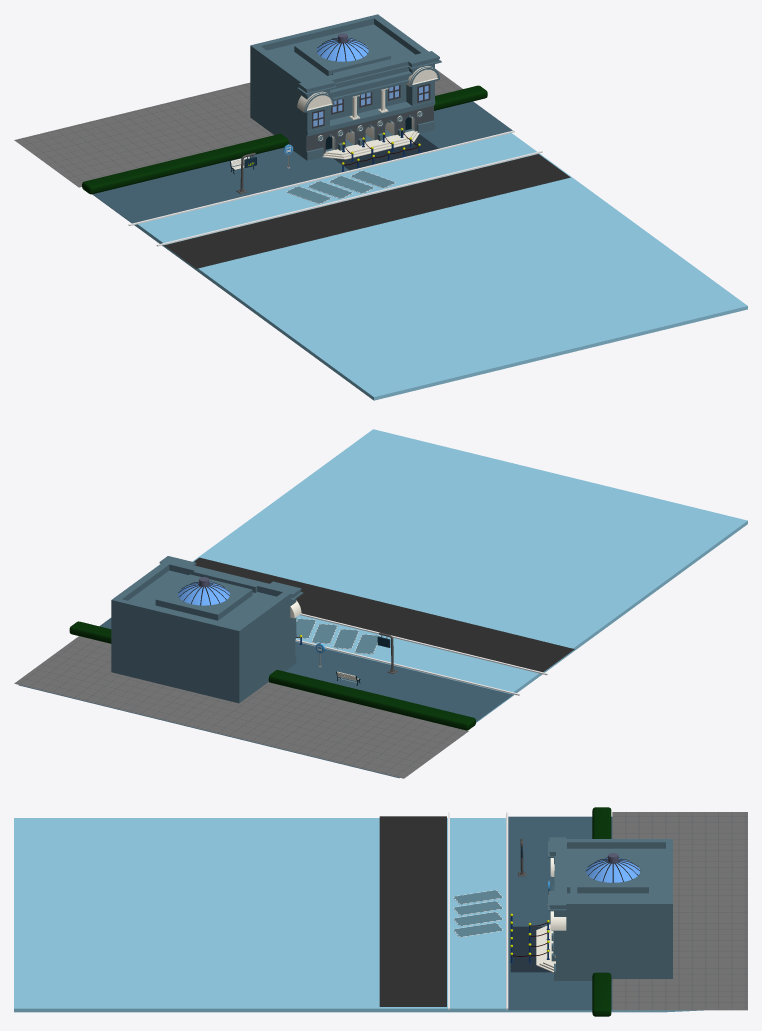
File: mergejam_04_library.fbx
The picture shows the model from 3 angles, top to bottom: view 1: azimuth 30°, elevation 25°; view 2: azimuth 150°, elevation 25°; view 3: azimuth 270°, elevation 25°; orthographic projection. The views are drawn at different scales.
Visible parts, largest first — view 1: main_base003, Amiga_Days_Museum_obj, Plane004, road003, base_midblue, Box009, curb003, house_floor_004, Box014; view 2: main_base003, Plane004, Amiga_Days_Museum_obj, road003, base_midblue, Box009, curb003, Box014; view 3: main_base003, Plane004, Amiga_Days_Museum_obj, road003, base_midblue, house_floor_004, curb003, Box014, Box009, red_railings003, vehicle_stand012, vehicle_stand011 (+2 smaller).
Part boxes in pixels (bbox=[...]): main_base003: bbox=[92, 133, 747, 400]; Amiga_Days_Museum_obj: bbox=[250, 14, 441, 160]; Plane004: bbox=[14, 69, 462, 187]; road003: bbox=[164, 154, 570, 268]; base_midblue: bbox=[93, 101, 512, 223]; Box009: bbox=[82, 133, 288, 194]; curb003: bbox=[128, 130, 542, 246]; house_floor_004: bbox=[333, 134, 438, 170]; Box014: bbox=[434, 85, 487, 110]; main_base003: bbox=[192, 429, 747, 722]; Plane004: bbox=[14, 636, 468, 778]; Amiga_Days_Museum_obj: bbox=[111, 556, 303, 703]; road003: bbox=[194, 557, 574, 672]; base_midblue: bbox=[18, 618, 512, 778]; Box009: bbox=[268, 670, 475, 730]; curb003: bbox=[295, 613, 547, 695]; Box014: bbox=[69, 621, 111, 643]; main_base003: bbox=[14, 818, 703, 1012]; Plane004: bbox=[612, 812, 747, 1010]; Amiga_Days_Museum_obj: bbox=[536, 837, 672, 980]; road003: bbox=[379, 816, 446, 1006]; base_midblue: bbox=[508, 816, 612, 1010]; house_floor_004: bbox=[510, 926, 551, 972]; curb003: bbox=[448, 812, 508, 1009]; Box014: bbox=[592, 972, 611, 1016]; Box009: bbox=[592, 807, 611, 838]; red_railings003: bbox=[510, 913, 549, 962]; vehicle_stand012: bbox=[453, 890, 502, 904]; vehicle_stand011: bbox=[453, 901, 502, 915].
Bounding box in the file's own units: 103 × 157 × 22.84.
25 materials, 2 textured.
